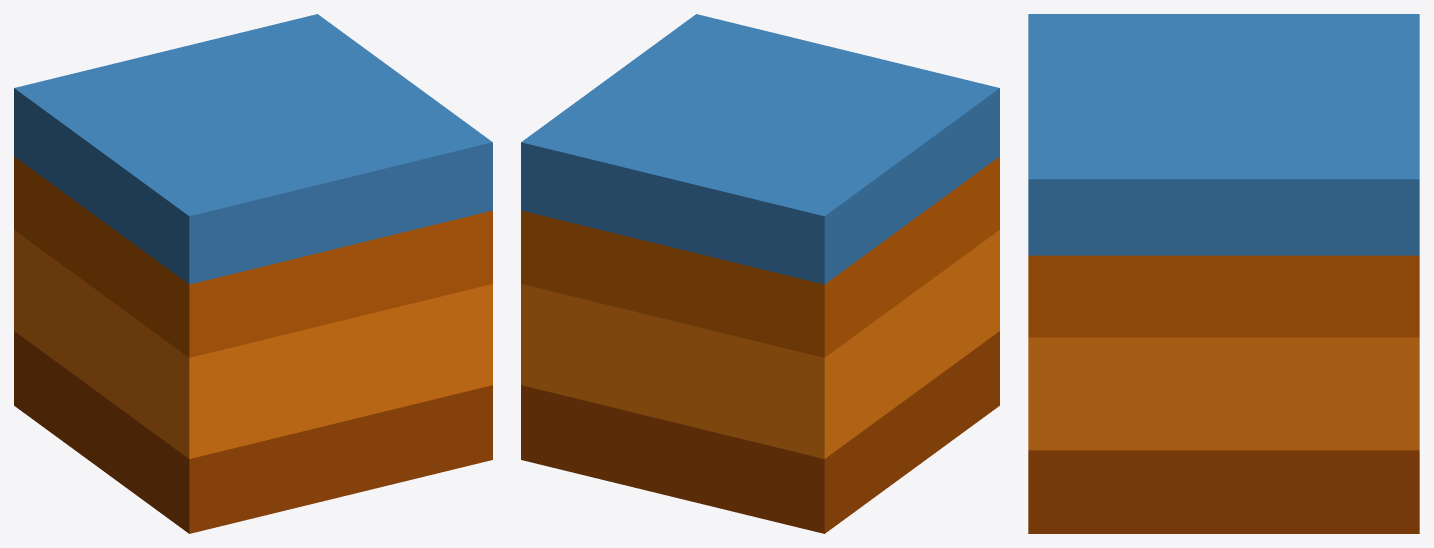
The model's file is Priming_03.fbx.
3 views of the same model, side by side, from view 1: azimuth 30°, elevation 25°; view 2: azimuth 150°, elevation 25°; view 3: azimuth 270°, elevation 25° (orthographic). The views are drawn at different scales.
Visible parts, largest first — view 1: Priming_03; view 2: Priming_03; view 3: Priming_03.
Boxes of the visible parts, x1,y1,x2,y2 form: Priming_03: (14, 14, 492, 533); Priming_03: (521, 14, 999, 533); Priming_03: (1028, 14, 1419, 533).
Size of the model in its own units: 100 by 100 by 100.
